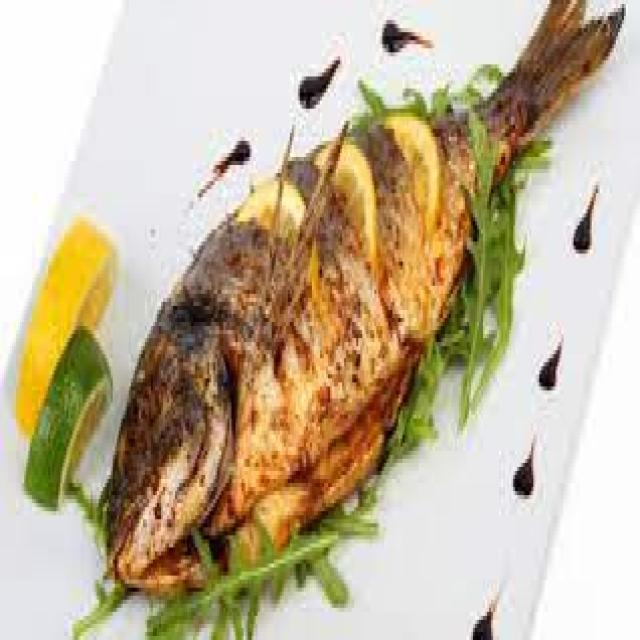Peixe: (95, 0, 626, 596)
